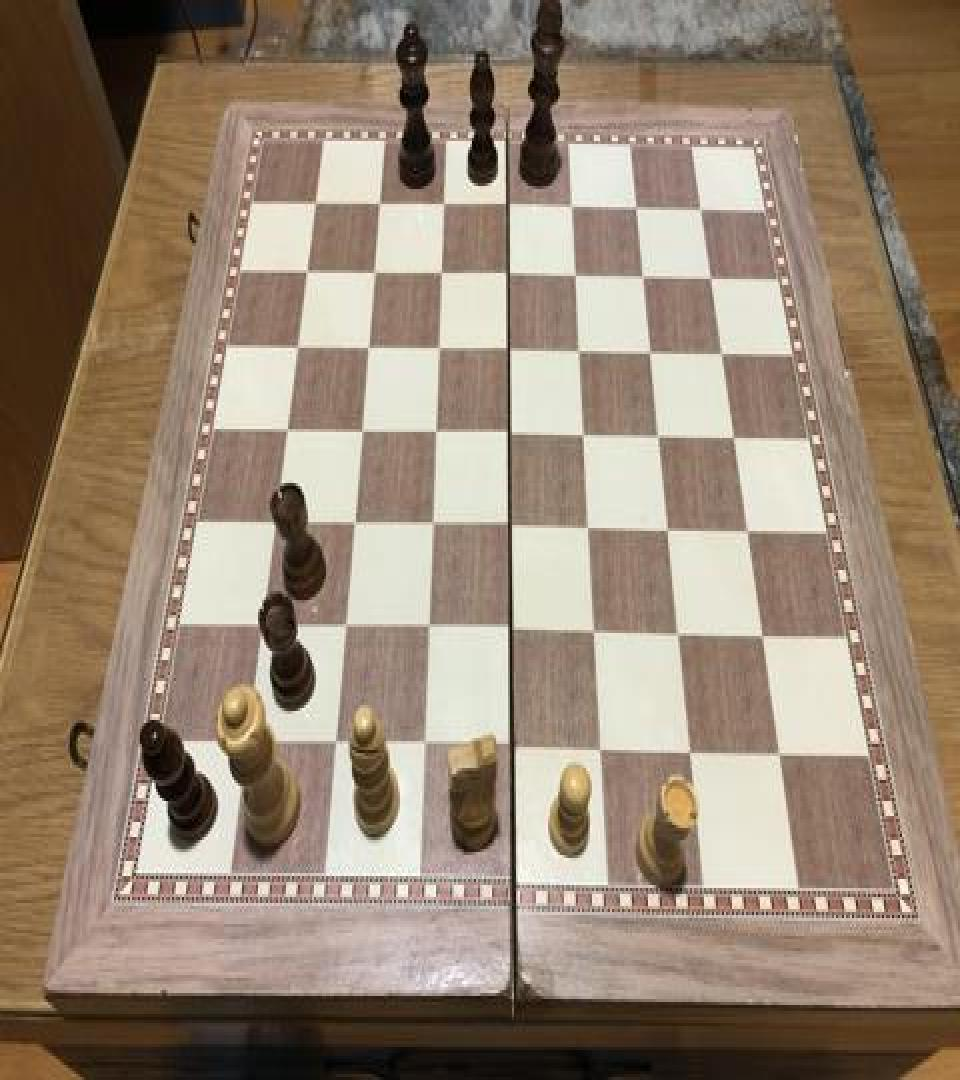xcorner: (666, 616, 690, 653), (333, 610, 357, 647), (250, 610, 274, 647), (588, 733, 612, 770), (235, 727, 259, 764), (689, 190, 713, 226), (625, 190, 649, 226), (561, 189, 585, 225), (497, 189, 521, 225), (631, 258, 655, 294), (564, 258, 588, 294), (497, 256, 521, 292), (430, 256, 454, 292), (364, 255, 388, 291), (297, 255, 321, 291), (709, 334, 733, 370), (639, 334, 663, 370), (568, 333, 592, 369), (498, 333, 522, 369), (427, 332, 451, 368), (357, 330, 381, 366), (287, 330, 311, 366), (721, 418, 745, 454), (647, 418, 671, 454), (572, 417, 596, 453), (498, 416, 522, 452), (424, 416, 448, 452), (350, 414, 374, 450), (735, 513, 759, 549), (656, 512, 680, 548), (577, 510, 601, 546), (499, 508, 523, 544), (420, 508, 444, 544), (342, 507, 366, 543), (264, 506, 288, 542), (750, 618, 774, 654), (582, 615, 606, 651), (499, 614, 523, 650), (416, 612, 440, 648), (767, 736, 791, 772), (677, 735, 701, 771), (500, 732, 524, 768), (411, 730, 435, 766), (323, 729, 347, 765), (433, 188, 457, 223), (370, 188, 394, 223), (306, 188, 330, 223), (698, 260, 722, 295), (276, 413, 300, 448)
